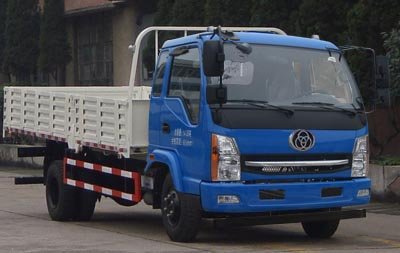smalltruck: (2, 21, 375, 236)
